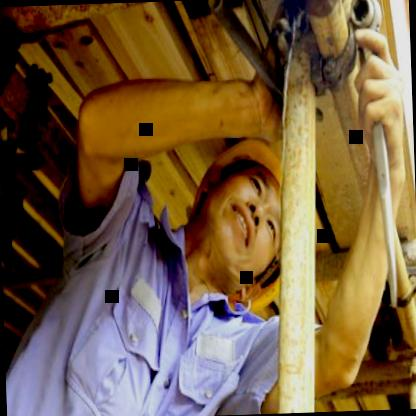helmet: (167, 105, 299, 309)
